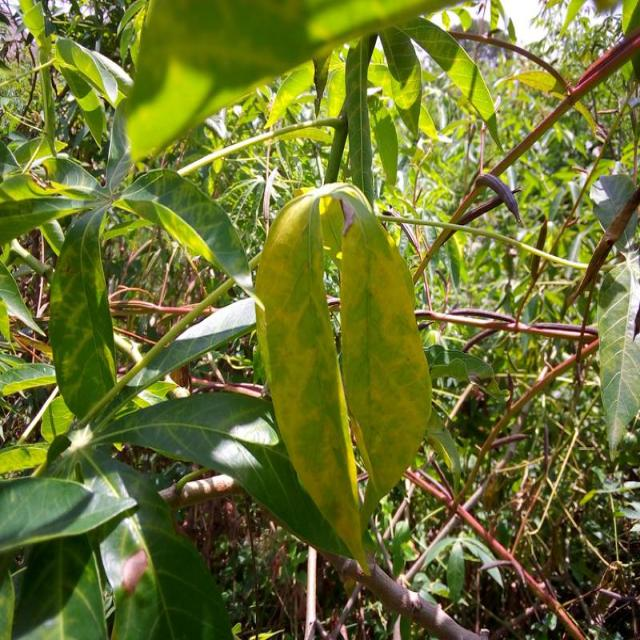cassava leaf: (254, 179, 434, 571)
